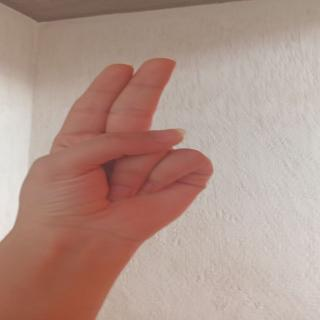TA: (17, 46, 302, 251)
